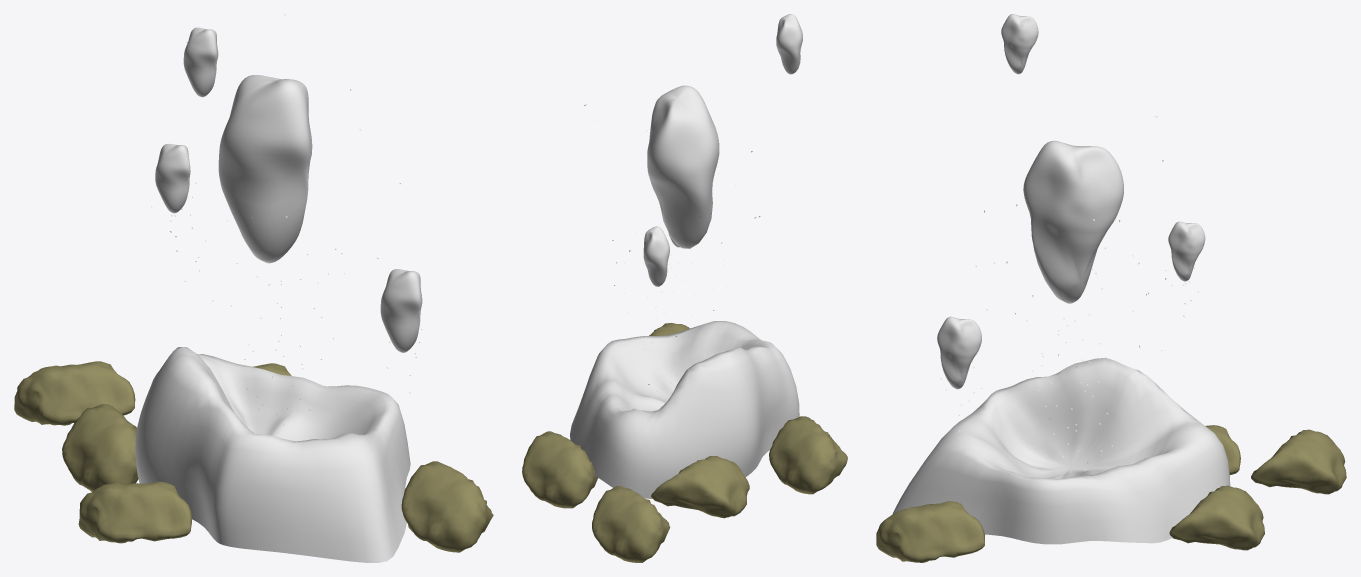
File: BLM JDI BATUNYA.fbx
The picture shows the model from 3 angles, left to right: view 1: azimuth 30°, elevation 25°; view 2: azimuth 150°, elevation 25°; view 3: azimuth 270°, elevation 25°; orthographic projection. The views are drawn at different scales.
Visible parts, largest first — view 1: Sphere.001, Sphere, Rocks_Mossy_Large002_Volume8.000, Rocks_Mossy_Large002_Volume8.004, Rocks_Mossy_Large002_Volume8.001, Rocks_Mossy_Large002_Volume8.003, Sphere.002, Sphere.004, Sphere.003; view 2: Sphere.001, Sphere, Rocks_Mossy_Large002_Volume8.001, Rocks_Mossy_Large002_Volume8.004, Rocks_Mossy_Large002_Volume8.002, Rocks_Mossy_Large002_Volume8.003, Sphere.004, Sphere.003; view 3: Sphere.001, Sphere, Rocks_Mossy_Large002_Volume8.000, Rocks_Mossy_Large002_Volume8.001, Rocks_Mossy_Large002_Volume8.002, Sphere.002, Sphere.003, Sphere.004, Rocks_Mossy_Large002_Volume8.003.
Part boxes in pixels (x1,y1,x2,y2): Sphere.001: (135,347,410,562); Sphere: (218,75,312,263); Rocks_Mossy_Large002_Volume8.000: (401,461,493,552); Rocks_Mossy_Large002_Volume8.004: (78,481,191,543); Rocks_Mossy_Large002_Volume8.001: (14,361,135,425); Rocks_Mossy_Large002_Volume8.003: (62,404,138,491); Sphere.002: (380,269,422,352); Sphere.004: (155,144,190,213); Sphere.003: (183,27,218,97); Sphere.001: (570,321,799,498); Sphere: (647,85,719,248); Rocks_Mossy_Large002_Volume8.001: (592,485,670,562); Rocks_Mossy_Large002_Volume8.004: (769,416,847,494); Rocks_Mossy_Large002_Volume8.002: (522,431,597,508); Rocks_Mossy_Large002_Volume8.003: (651,456,749,518); Sphere.004: (643,226,669,286); Sphere.003: (776,14,802,74); Sphere.001: (892,357,1230,544); Sphere: (1023,140,1123,303); Rocks_Mossy_Large002_Volume8.000: (876,501,984,562); Rocks_Mossy_Large002_Volume8.001: (1251,429,1346,494); Rocks_Mossy_Large002_Volume8.002: (1169,485,1264,550); Sphere.002: (937,316,981,389); Sphere.003: (1001,14,1038,74); Sphere.004: (1168,221,1205,281); Rocks_Mossy_Large002_Volume8.003: (1205,425,1240,474).
Size of the model in its own units: 451 by 704 by 647.
